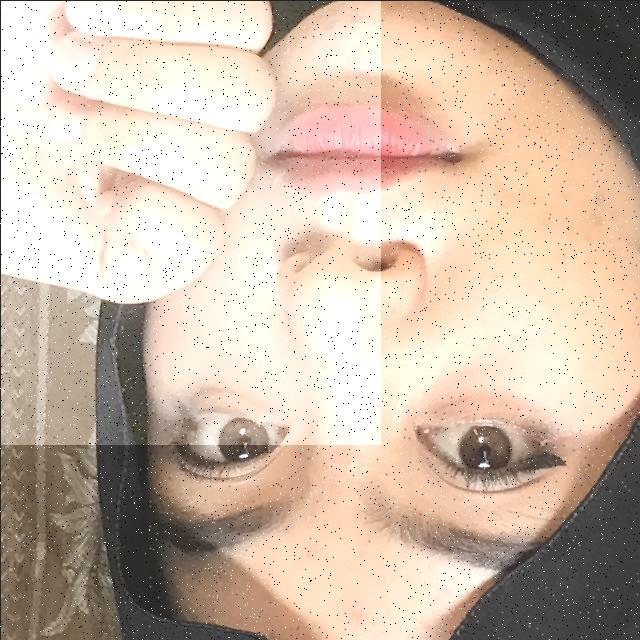sedih: (0, 0, 380, 444)
